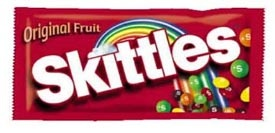grozi_38: (11, 7, 264, 121)
